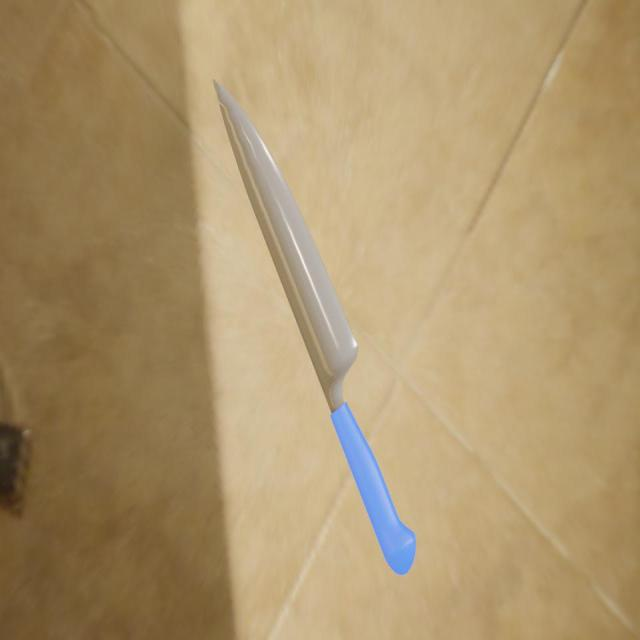knife: (330, 399, 416, 576)
